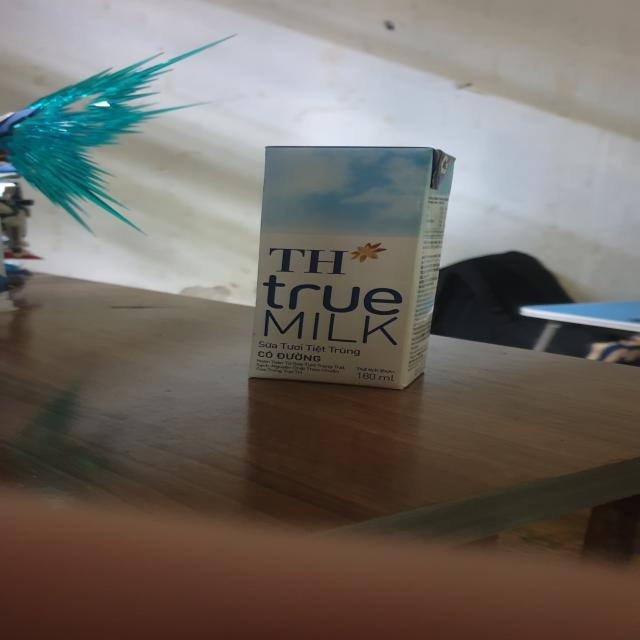TH: (244, 141, 462, 392)
